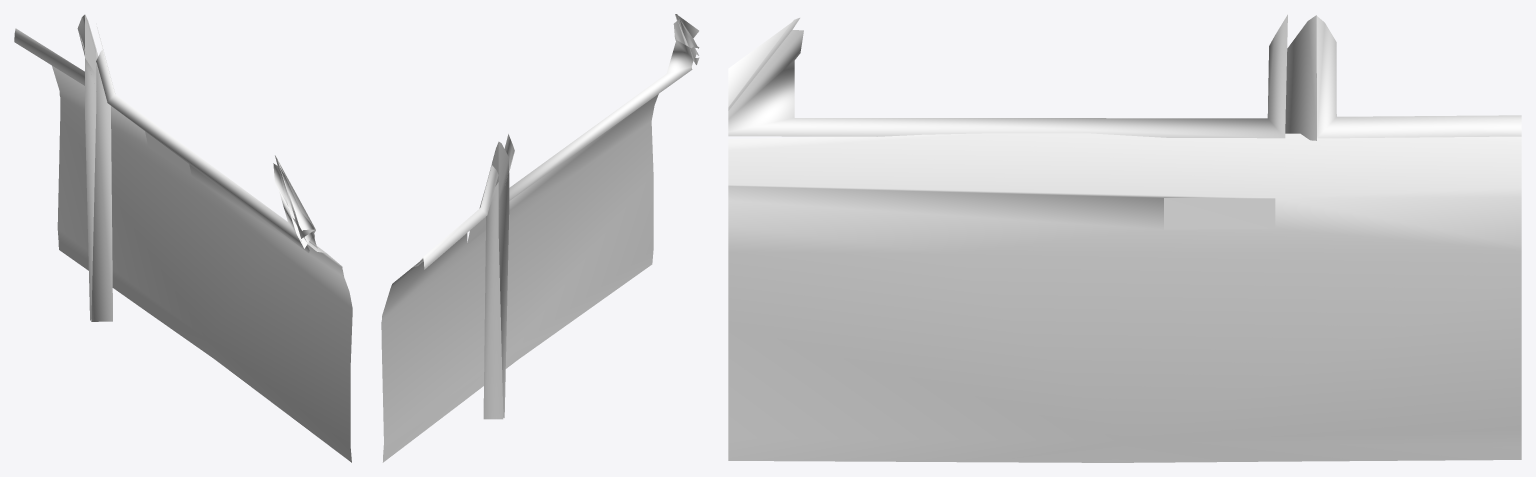
3 renders of one model, left to right at view 1: azimuth 30°, elevation 25°; view 2: azimuth 150°, elevation 25°; view 3: azimuth 270°, elevation 25°, orthographic. The views are drawn at different scales.
Size of the model in its own units: 0.127 by 0.6696 by 1.16.
1 material, 1 textured.
